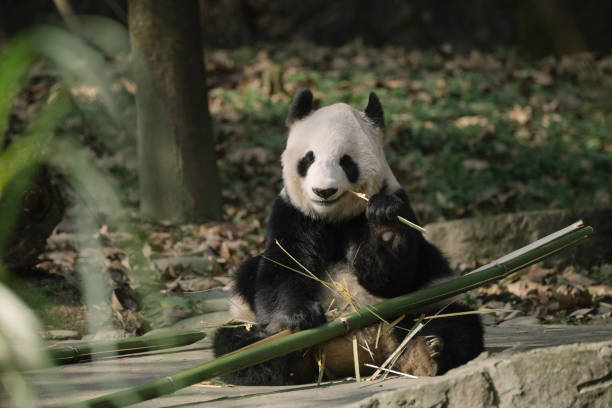panda: (259, 84, 412, 225)
